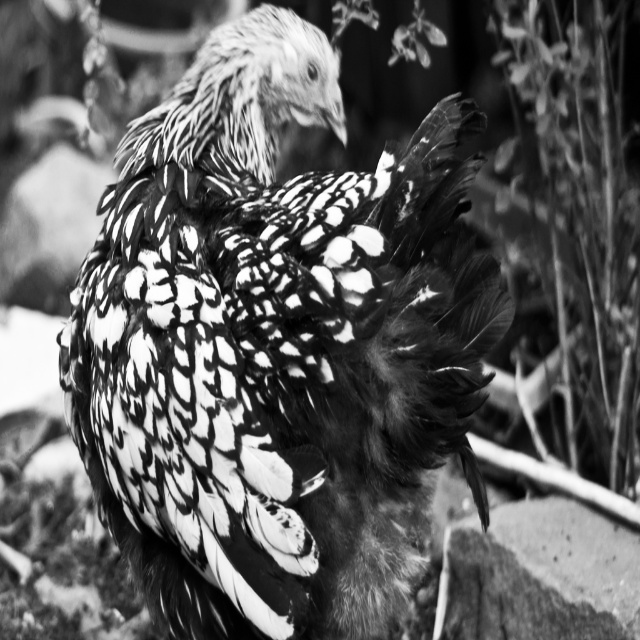Chicken: (52, 5, 517, 639)
